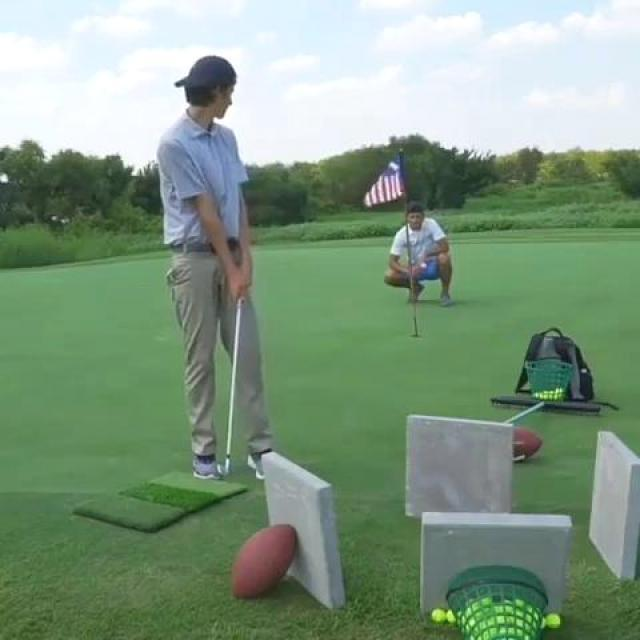ClubHead: (216, 462, 230, 474)
GolfBall: (428, 606, 443, 622), (444, 610, 459, 622), (548, 614, 563, 626), (495, 614, 507, 626), (538, 617, 550, 627), (514, 620, 526, 630), (526, 602, 536, 614), (470, 601, 480, 612), (517, 630, 528, 640), (487, 618, 498, 628), (497, 628, 507, 638), (525, 614, 535, 624), (474, 614, 484, 624), (501, 598, 513, 606), (494, 606, 506, 614), (507, 606, 516, 616), (504, 614, 513, 624), (476, 623, 487, 631), (516, 600, 524, 610), (484, 630, 494, 638), (510, 628, 518, 638), (468, 620, 476, 630), (462, 610, 472, 618), (462, 626, 472, 634), (482, 598, 491, 606), (492, 596, 500, 605), (486, 610, 494, 618), (532, 390, 540, 398), (541, 392, 549, 399), (470, 636, 482, 640), (554, 386, 560, 394), (561, 387, 567, 392), (538, 392, 544, 397), (549, 389, 555, 394), (557, 393, 562, 398), (549, 396, 555, 400)
